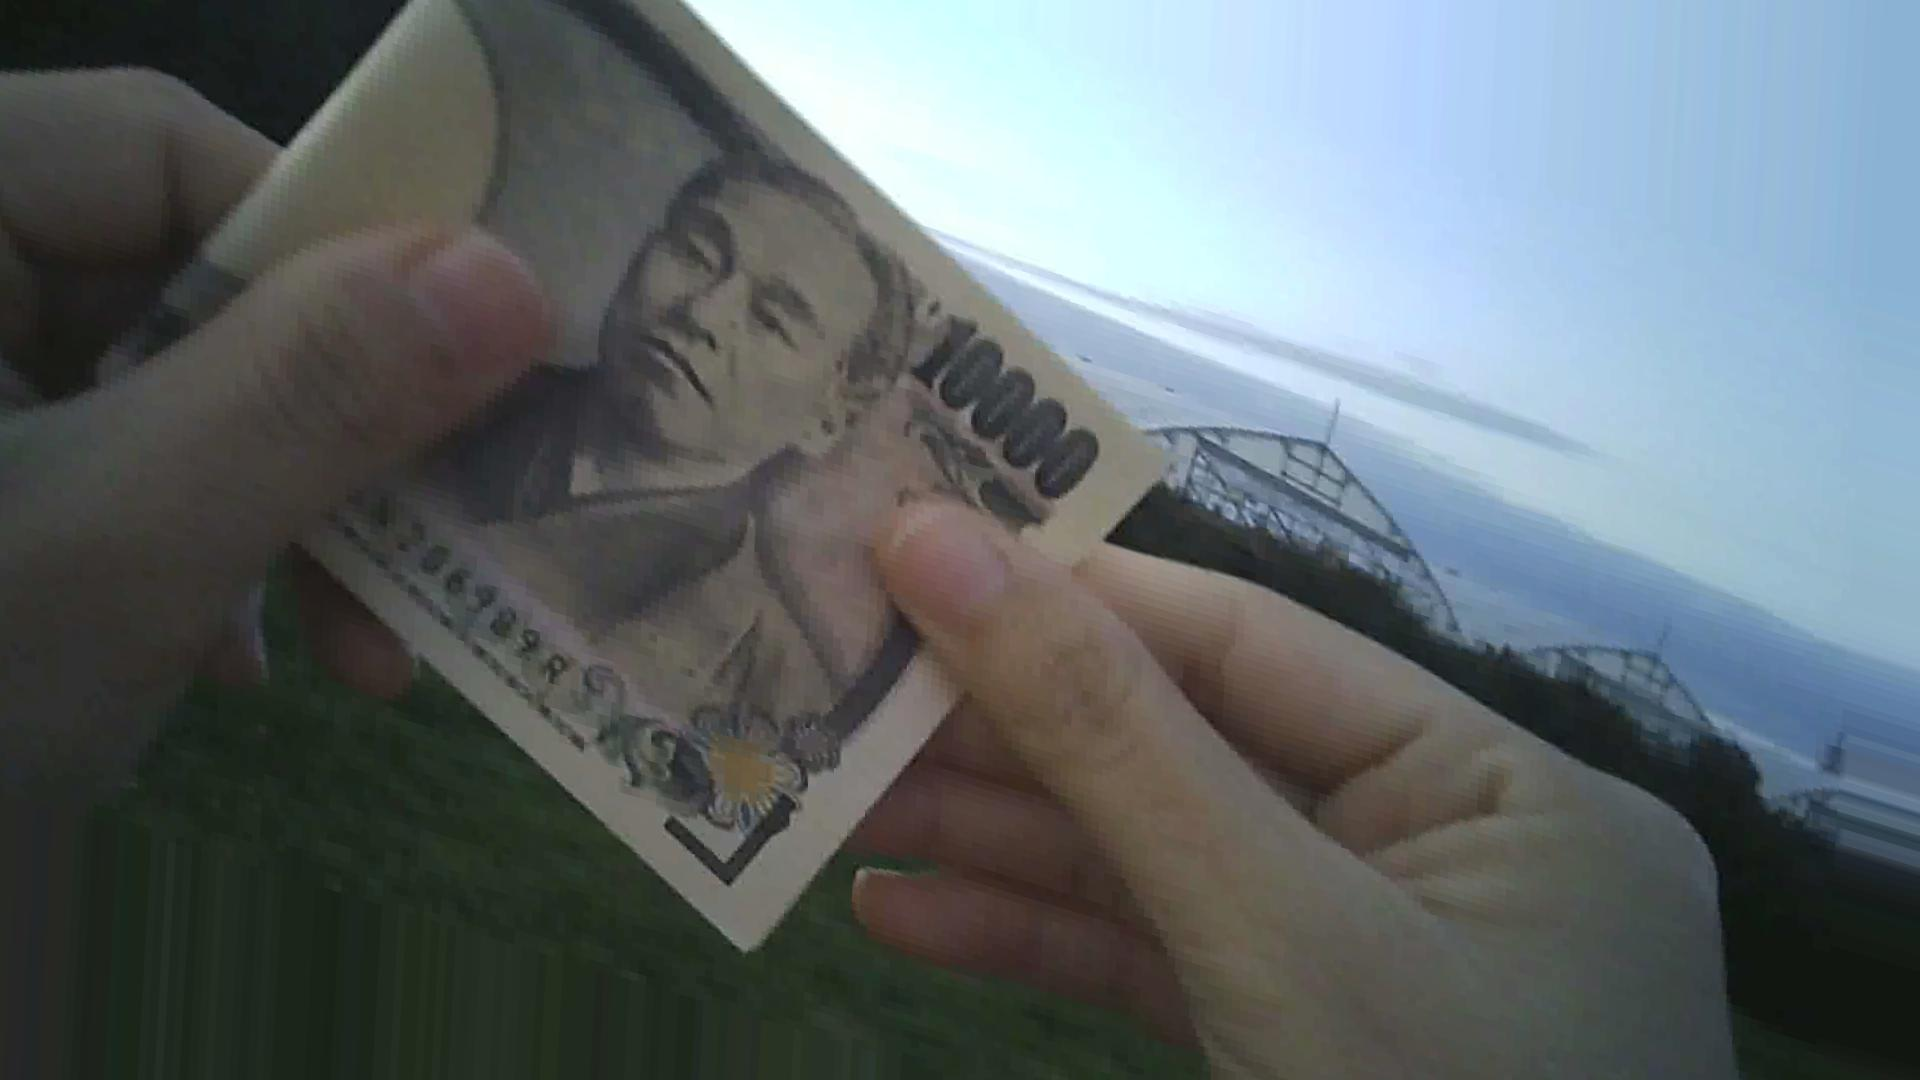10,000 Yen: (78, 21, 1196, 972)
